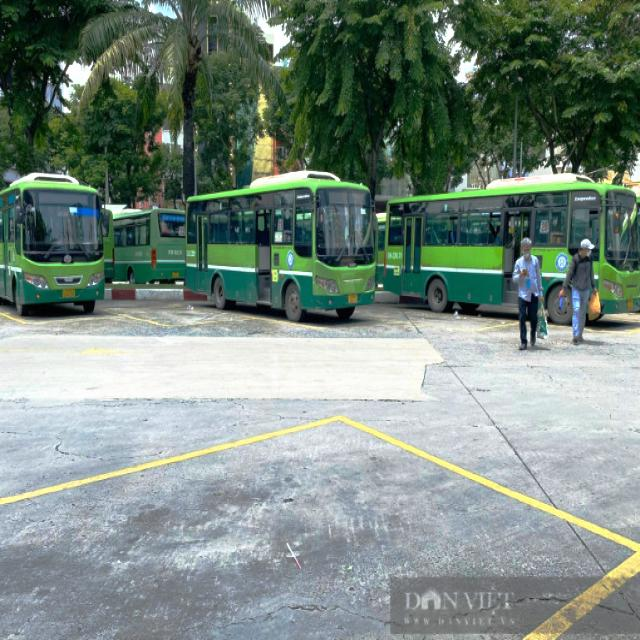Car: (391, 192, 636, 295), (199, 194, 373, 308), (0, 194, 106, 293), (118, 214, 178, 269)
